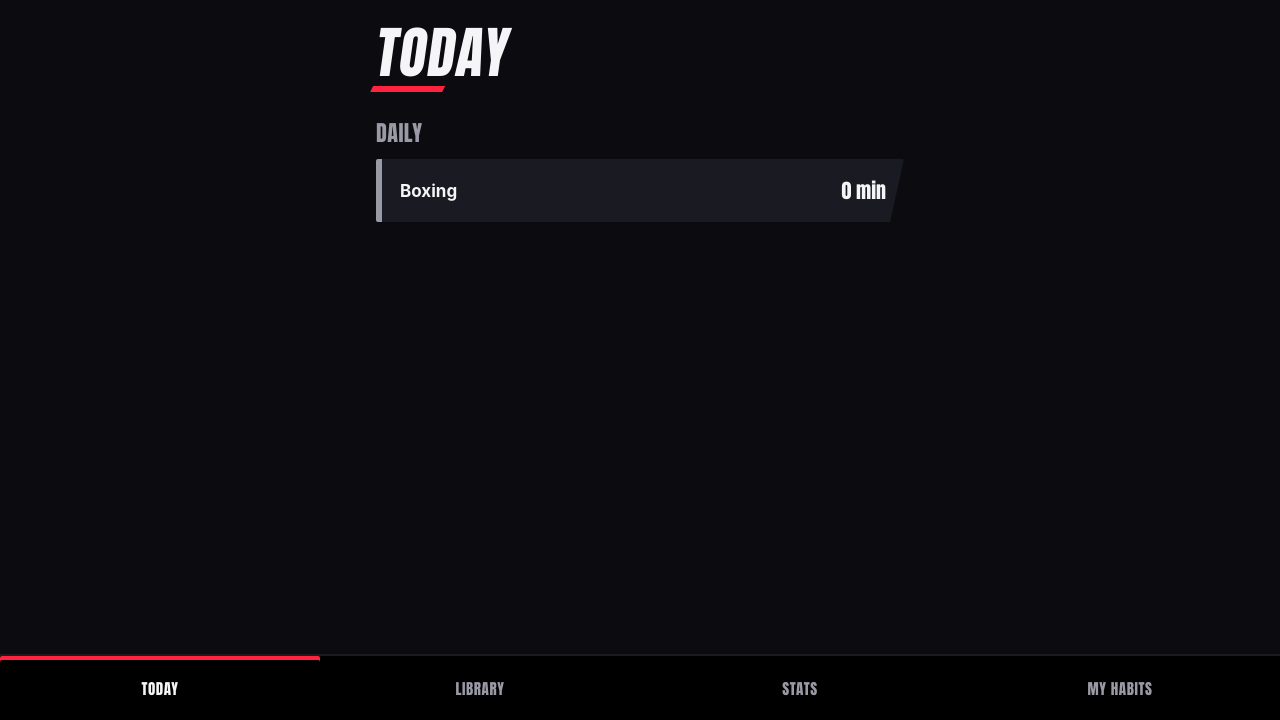
Test case: log sheet › closes with the Close button
The width and height of the screenshot is (1280, 720).
Click the button "Boxing 0 min" at (429, 190), box [376,159,904,222]
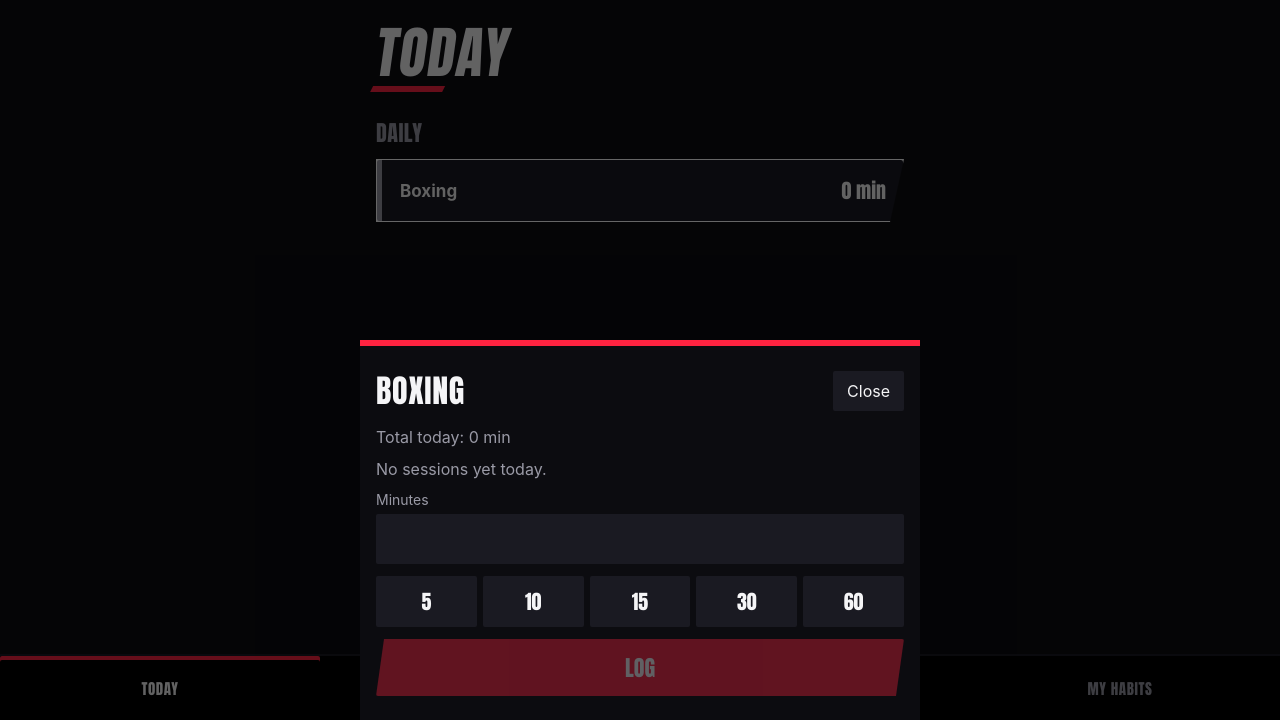
Click the button "Close" at (869, 390), box [833,370,904,410]
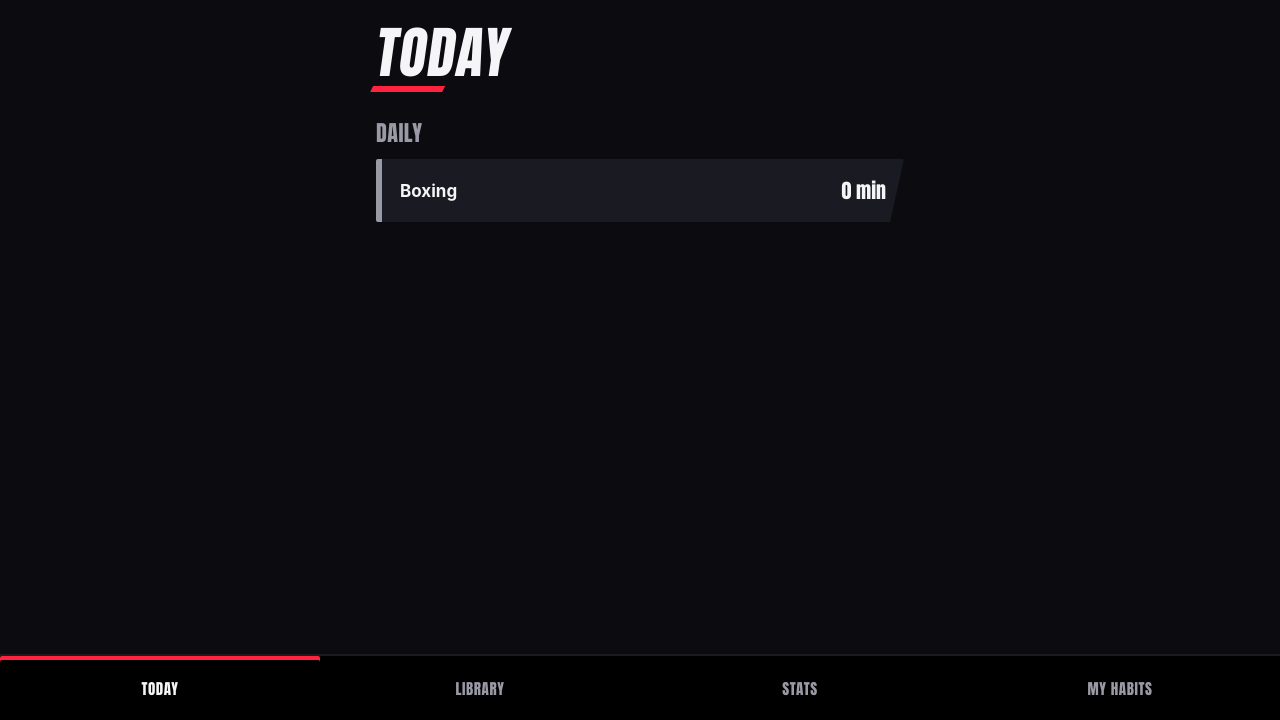
Expected: the dialog is gone
